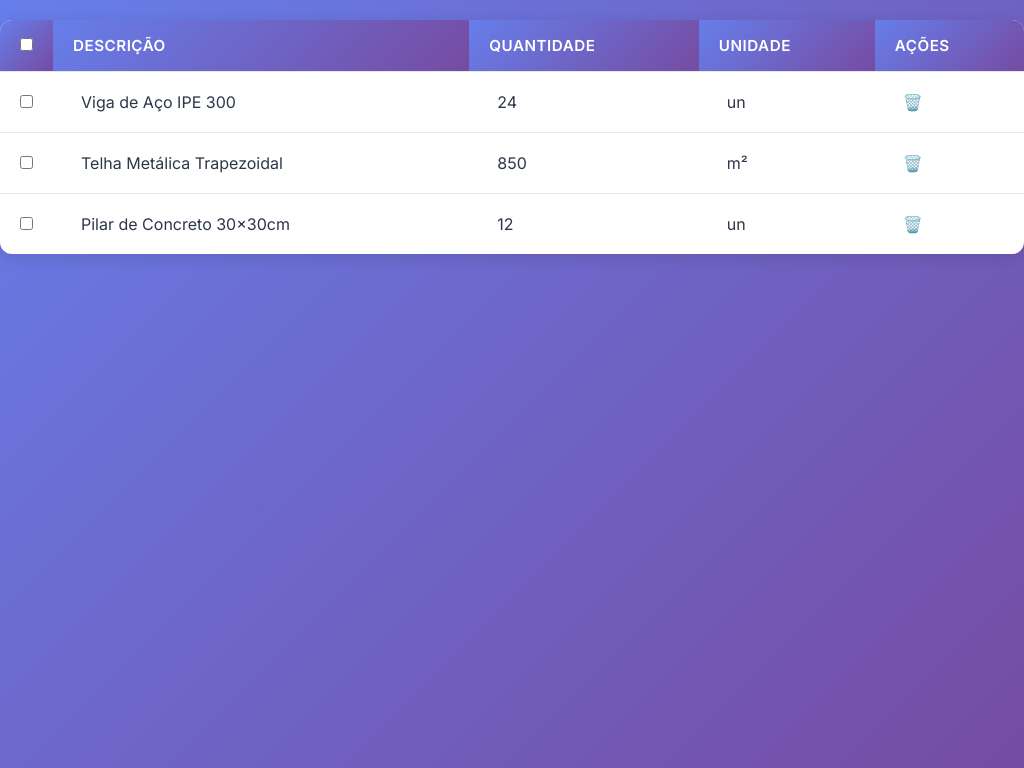
Scenario: MaterialsTable › select all checkbox selects all materials
The width and height of the screenshot is (1024, 768).
Expected: the table is shown, 0,20 -> 1023,254
What coordinates should you click on to do the following:
click the checkbox next to "DESCRIÇÃO"
I would click on:
 (26, 44)
Its box is 20,38 -> 33,51.
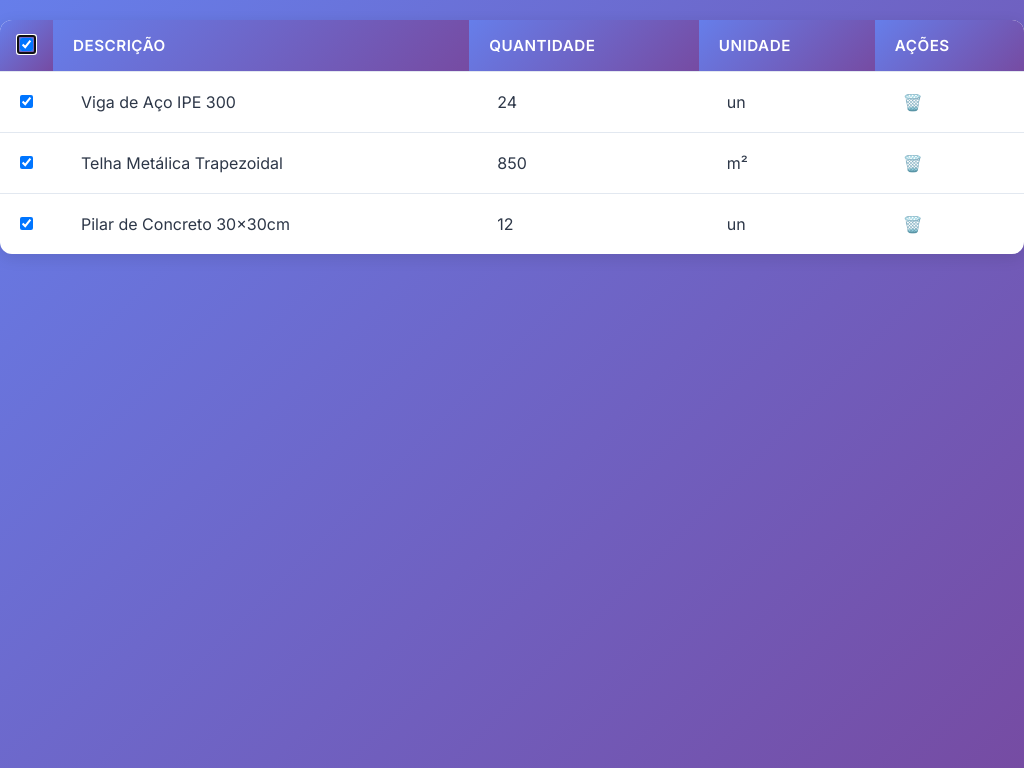
Now the checkbox next to "DESCRIÇÃO" is checked, box 20,38 -> 33,51
Now the checkbox next to "Viga de Aço IPE 300" is checked, box 20,95 -> 33,108
Now the checkbox next to "Telha Metálica Trapezoidal" is checked, box 20,156 -> 33,169
